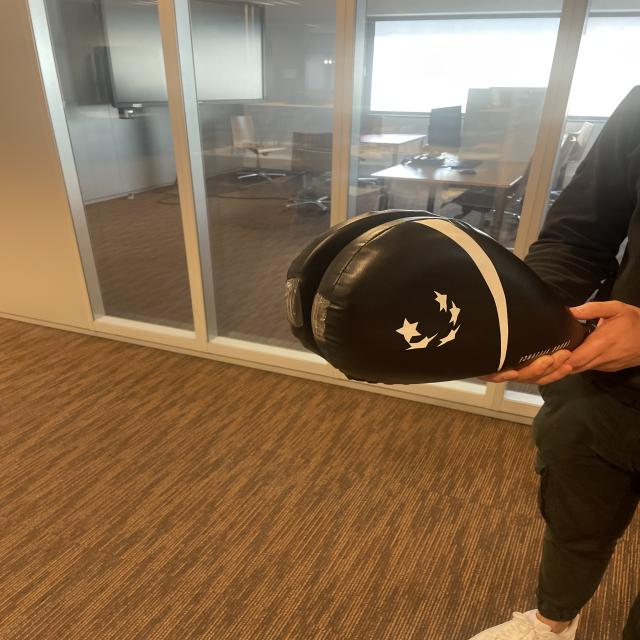paddle: (286, 207, 556, 383)
